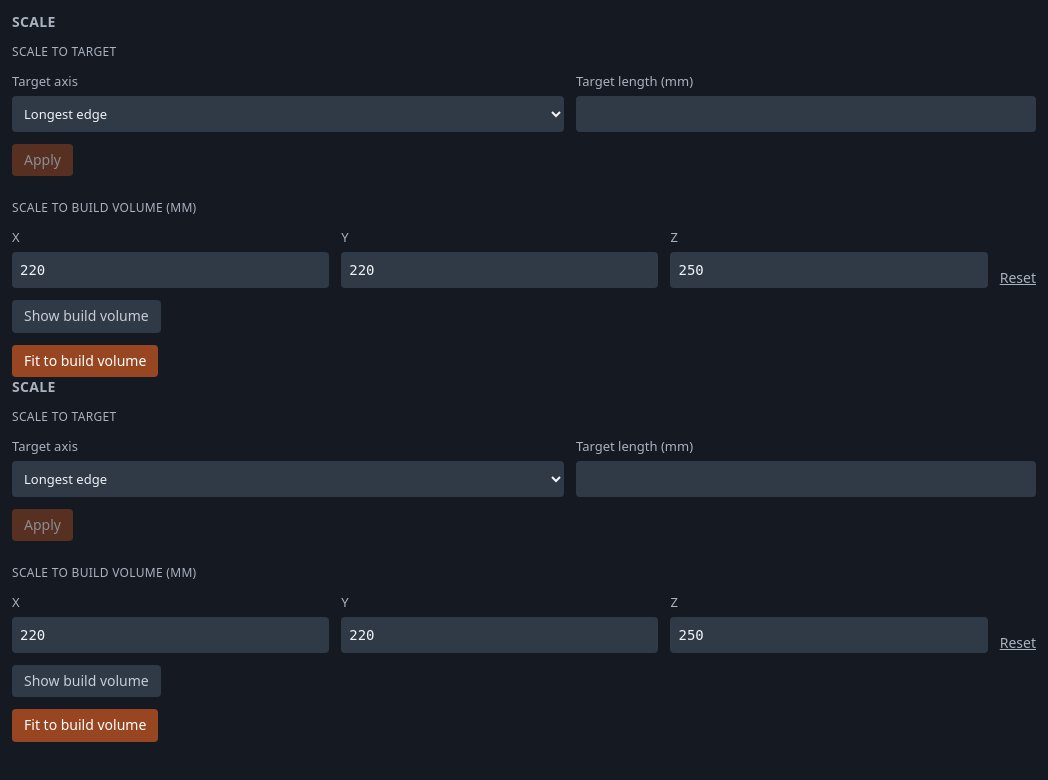
ScaleSection › keeps volume fields in sync across responsive panels without losing decimal drafts
The image size is (1048, 780).
Replace the text in the field named "Build volume x" with "150." at x=171, y=270, box top-left (12, 252), bottom-right (329, 288)
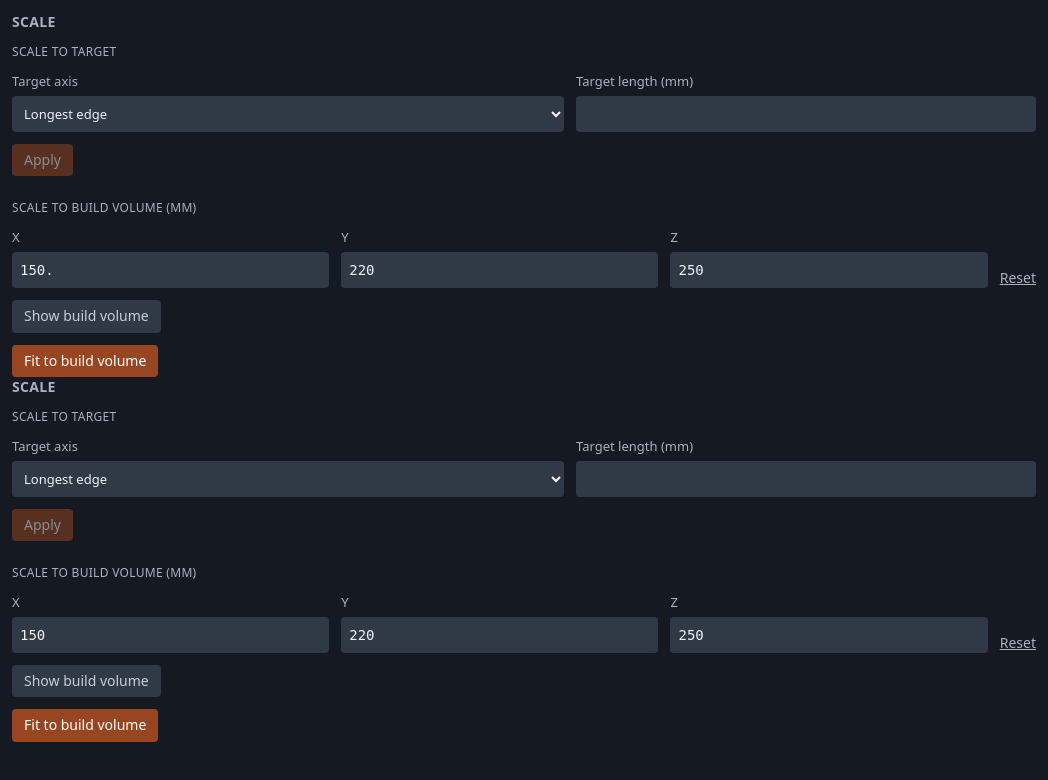
Now the field named "Build volume x" holds "150", box top-left (12, 617), bottom-right (329, 653)
Click the 2nd button "Reset" at x=1018, y=643, box top-left (1000, 633), bottom-right (1036, 653)
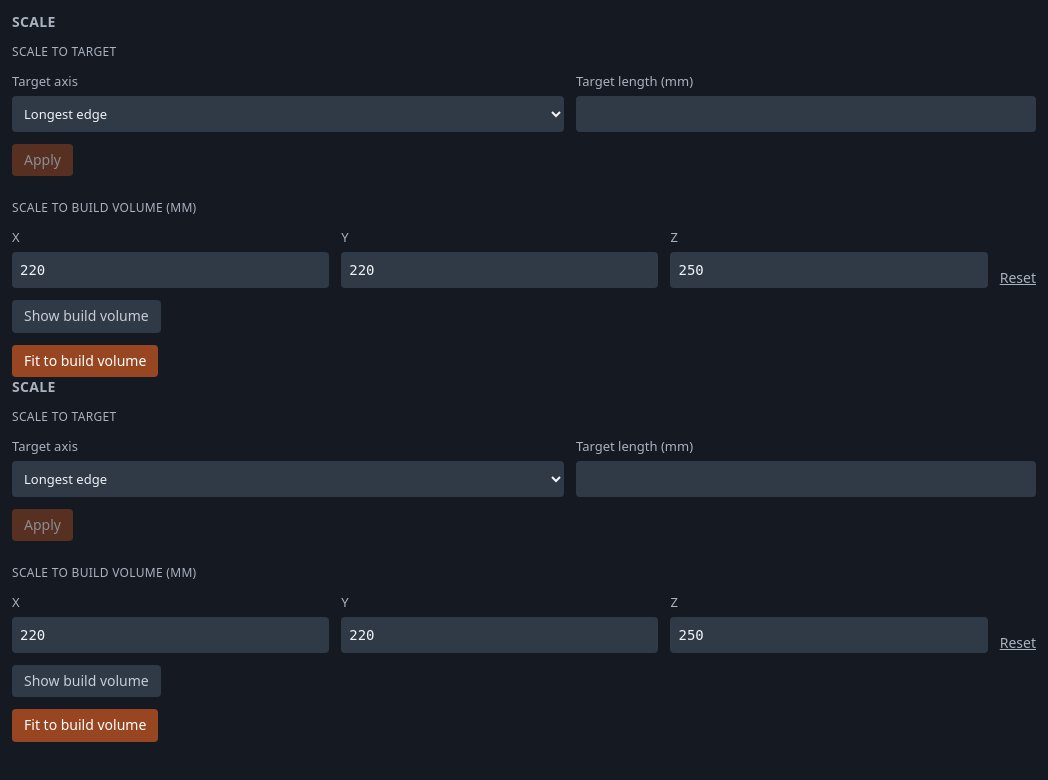
Now the field named "Build volume x" holds "220", box top-left (12, 252), bottom-right (329, 288)
